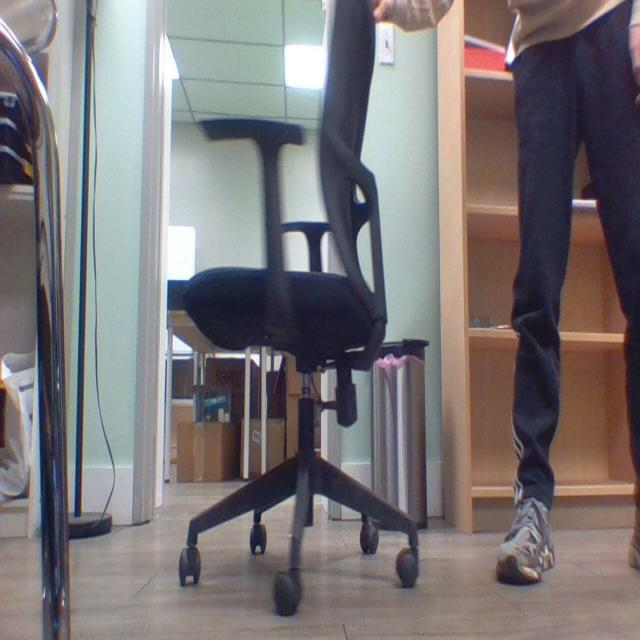chair: (178, 0, 421, 608)
